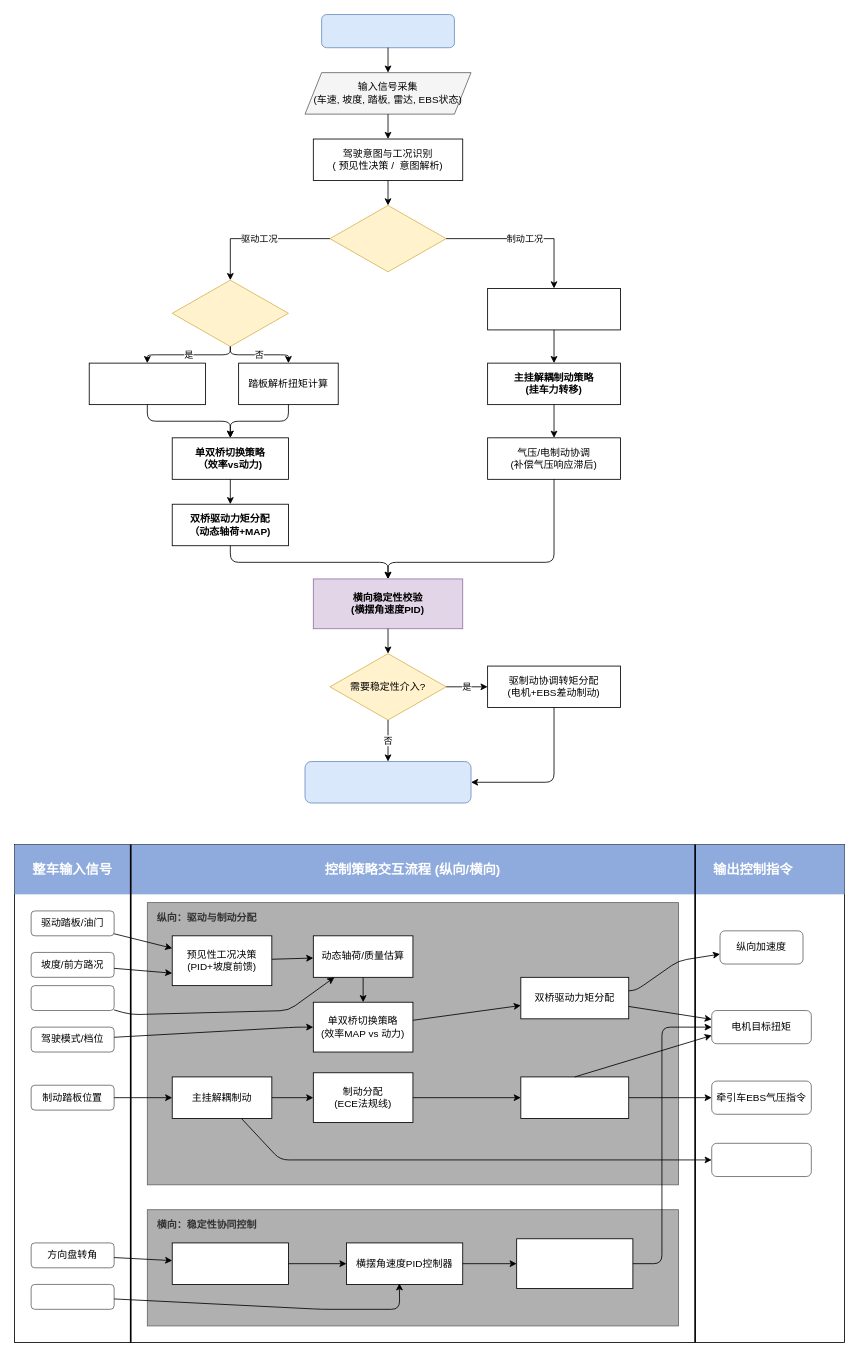
Some shapes in this 859 by 1359 pixel diagram are drawn without their labels. The centre of each missing label's shape, as x and y in pixels:
"判断：驱动 vs 制动?" goes at (387,238).
"前后轴制动力分配 (规则控制+ECE线)" goes at (553,309).
"开始：周期性任务触发" goes at (387,31).
"挂车EBS制动压力" goes at (761,1159).
"期望横摆角速度计算" goes at (229,1263).
"横摆角速度" goes at (72,1296).
"电/气制动协同分配" goes at (574,1097).
"车速/轮速信号" goes at (72,998).
"输出：电机力矩指令 / EBS压力指令" goes at (387,782).
"预见性巡航/跟车模式?" goes at (229,313).
"预见性目标加速度计算 (PID + 前馈Boost)" goes at (146,383).
"驱制动协同转矩分配 (下层分配)" goes at (574,1263).
